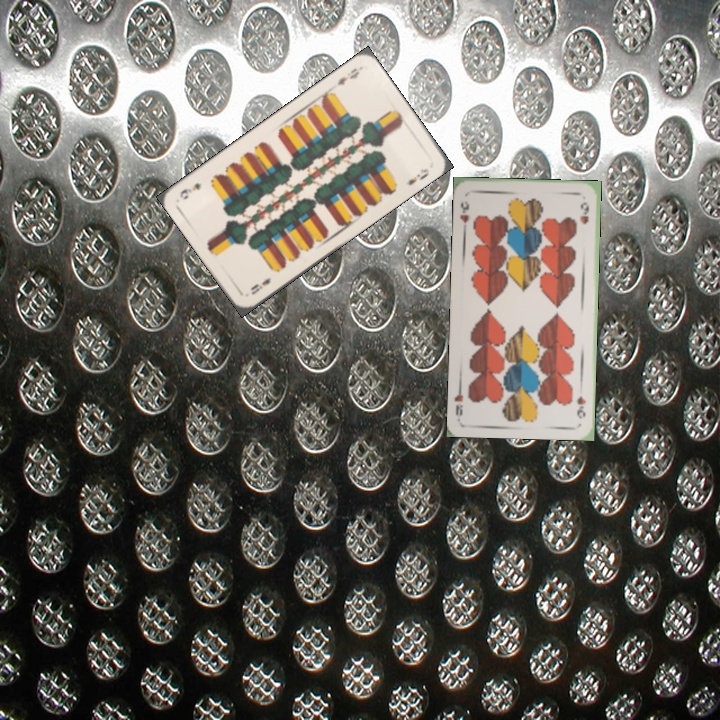E9: (333, 63, 364, 88), (247, 273, 274, 297)
H9: (456, 197, 472, 232), (572, 392, 588, 421)
